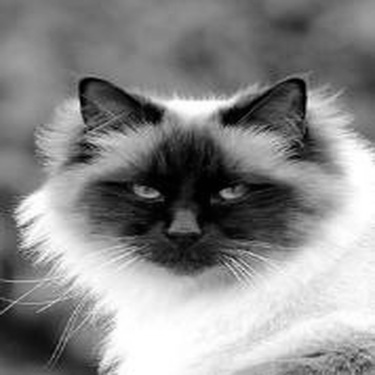cat: (12, 72, 370, 373)
